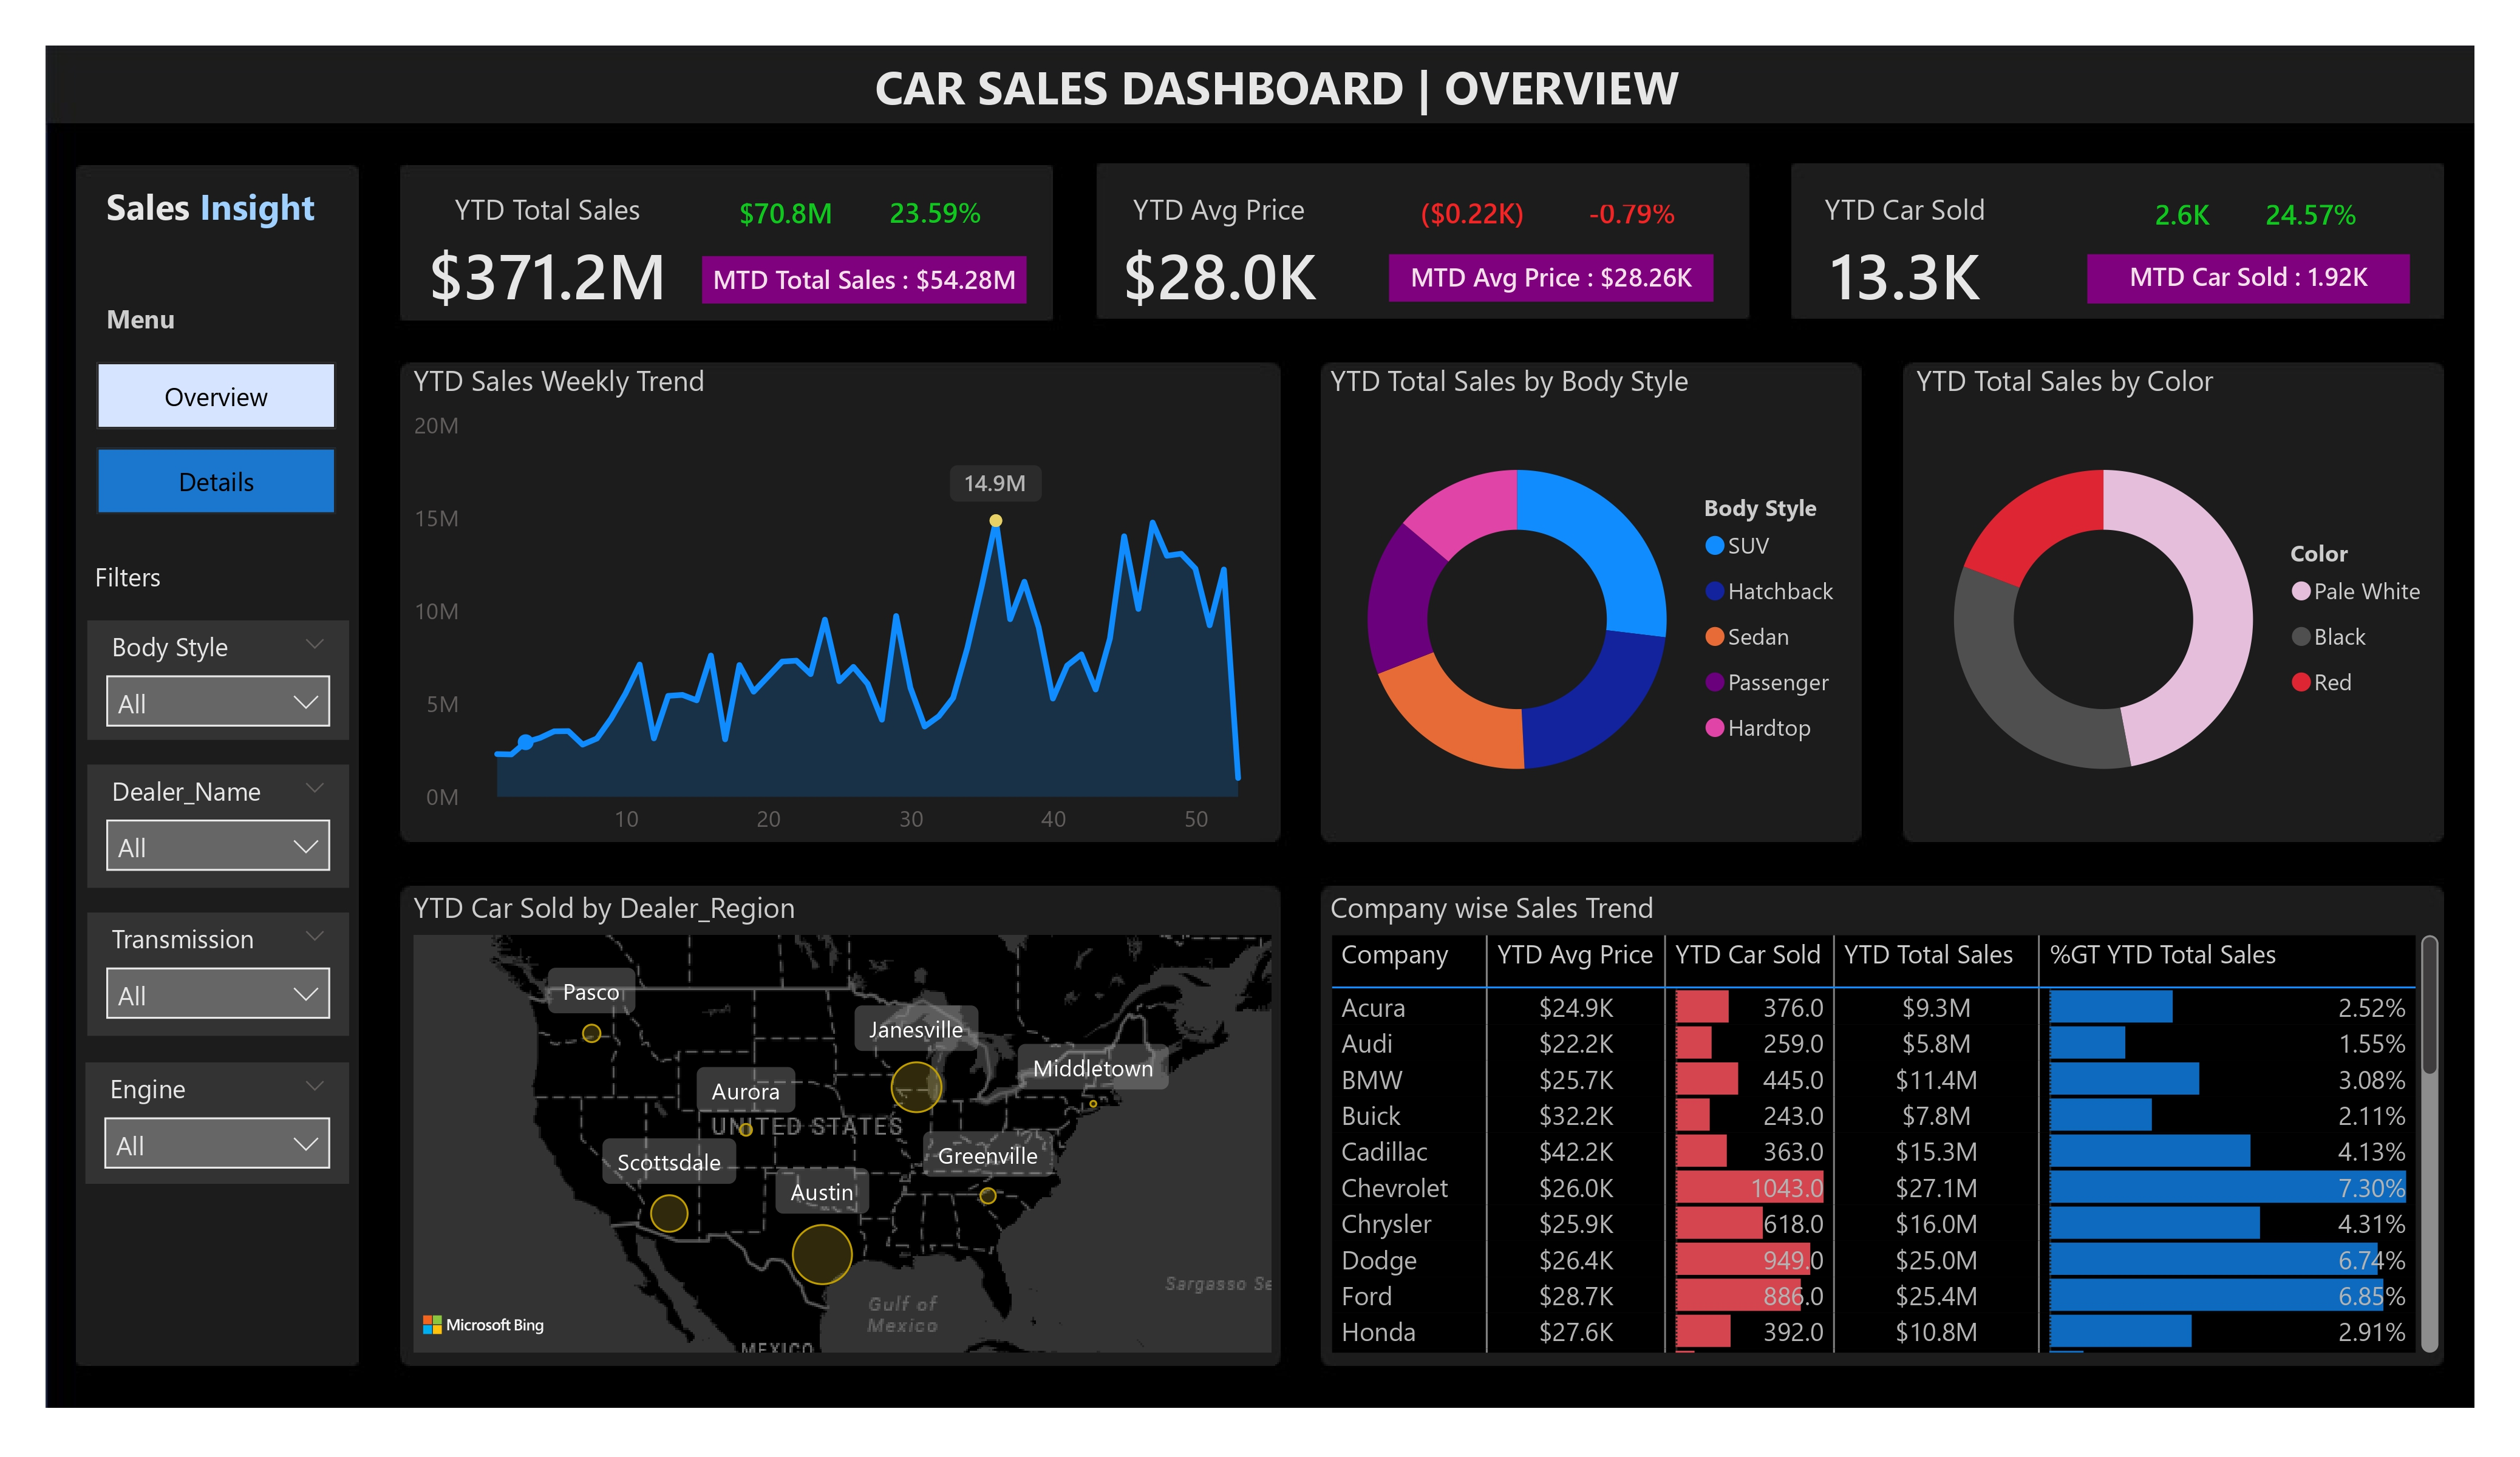

Layout of this report page (visuals, bound fields, positions):
{"tool":"powerbi","page":{"name":"Overview","canvas":[1280,720],"ordinal":0},"visuals":[{"type":"card","title":"YTD Total Sales","fields":{"Values":["car_data.YTD Total Sales"]},"box":[171.2,76.2,186.2,70],"z":0},{"type":"card","fields":{"Values":["car_data.YoY Sales Growth"]},"box":[408.7,75.3,120,24],"z":1000},{"type":"card","fields":{"Values":["car_data.Sales Difference"]},"box":[348.6,75.7,82.9,25.7],"z":2000},{"type":"card","title":"YTD Total Sales","fields":{"Values":["car_data.MTD KPI"]},"box":[345.7,111.4,171.4,24.3],"z":3000},{"type":"card","title":"YTD Avg Price","fields":{"Values":["car_data.YTD Avg Price"]},"box":[528.8,76.2,178.8,70],"z":4000},{"type":"card","fields":{"Values":["car_data.Avg Price Diff"]},"box":[711.4,75.7,81.4,25.7],"z":5000},{"type":"card","fields":{"Values":["car_data.YoY Avg Price Growth"]},"box":[776,75.3,120,22.7],"z":6000},{"type":"card","title":"YTD Total Sales","fields":{"Values":["car_data.MTD Avg Price KPI"]},"box":[708,110,171,25],"z":7000},{"type":"card","title":"YTD Car Sold","fields":{"Values":["car_data.YTD Car Sold"]},"box":[896,76,168,70],"z":8000},{"type":"card","fields":{"Values":["car_data.Car Sold Diff"]},"box":[1091.4,75.7,70,24.3],"z":9000},{"type":"card","fields":{"Values":["car_data.YoY Car Sold Growth"]},"box":[1134,76,120,24],"z":10000},{"type":"card","title":"YTD Total Sales","fields":{"Values":["car_data.MTD Car Sold KPI"]},"box":[1075.7,110,170,25.7],"z":11000},{"type":"areaChart","title":"YTD Sales Weekly Trend","fields":{"Category":["Calendar Table.Week"],"Y":["car_data.Max Point on Area Chart","Sum(car_data.Price ($))"]},"box":[188.6,165.7,462.9,260],"z":12000},{"type":"donutChart","fields":{"Category":["car_data.Body Style"],"Y":["car_data.YTD Total Sales"]},"box":[672,166,285,253],"z":13000},{"type":"donutChart","fields":{"Category":["car_data.Color"],"Y":["car_data.YTD Total Sales"]},"box":[980.6,165.6,285.1,253.4],"z":14000},{"type":"map","fields":{"Category":["car_data.Dealer_Region"],"Size":["car_data.YTD Car Sold"]},"box":[188.6,443.5,462.2,250.6],"z":15000},{"type":"tableEx","title":"Company wise Sales Trend","fields":{"Values":["car_data.Company","car_data.YTD Avg Price","car_data.YTD Car Sold","car_data.YTD Total Sales","Divide(car_data.YTD Total Sales, ScopedEval(car_data.YTD Total Sales, []))"]},"box":[672.5,443.5,593.3,250.6],"z":16000},{"type":"textbox","box":[431.7,0,451.7,53.3],"z":17000},{"type":"slicer","fields":{"Values":["car_data.Body Style"]},"box":[21.8,302.7,138.2,63.6],"z":18000},{"type":"slicer","fields":{"Values":["car_data.Dealer_Name"]},"box":[21.8,379.1,138.2,64.5],"z":19000},{"type":"slicer","fields":{"Values":["car_data.Transmission"]},"box":[21.8,457.3,138.2,64.5],"z":20000},{"type":"slicer","fields":{"Values":["car_data.Engine"]},"box":[21.4,535.7,138.6,64.3],"z":21000},{"type":"textbox","box":[21.4,265.7,108.6,27.1],"z":22000},{"type":"pageNavigator","box":[26.7,166.7,126.7,80],"z":23000},{"type":"textbox","box":[27.1,67.1,138.6,38.6],"z":24000},{"type":"textbox","box":[27.1,130,138.6,37.1],"z":25000}]}

Visuals, with their boxes in screenshot pixels (x1, y1, x2, y2):
"YTD Total Sales" card: box(370, 190, 724, 323)
card - car_data.YoY Sales Growth: box(821, 188, 1049, 234)
card - car_data.Sales Difference: box(707, 189, 864, 238)
"YTD Total Sales" card: box(701, 257, 1027, 303)
"YTD Avg Price" card: box(1049, 190, 1388, 323)
card - car_data.Avg Price Diff: box(1395, 189, 1550, 238)
card - car_data.YoY Avg Price Growth: box(1518, 188, 1746, 231)
"YTD Total Sales" card: box(1389, 254, 1714, 302)
"YTD Car Sold" card: box(1746, 189, 2065, 322)
card - car_data.Car Sold Diff: box(2117, 189, 2249, 236)
card - car_data.YoY Car Sold Growth: box(2198, 189, 2425, 236)
"YTD Total Sales" card: box(2087, 254, 2409, 303)
"YTD Sales Weekly Trend" areaChart: box(403, 360, 1282, 853)
donutChart - car_data.Body Style x car_data.YTD Total Sales: box(1321, 361, 1862, 840)
donutChart - car_data.Color x car_data.YTD Total Sales: box(1906, 359, 2447, 840)
map - car_data.Dealer_Region x car_data.YTD Car Sold: box(403, 887, 1281, 1362)
"Company wise Sales Trend" tableEx: box(1322, 887, 2448, 1362)
textbox: box(865, 46, 1722, 147)
slicer - car_data.Body Style: box(87, 620, 349, 741)
slicer - car_data.Dealer_Name: box(87, 765, 349, 887)
slicer - car_data.Transmission: box(87, 913, 349, 1036)
slicer - car_data.Engine: box(86, 1062, 349, 1184)
textbox: box(86, 549, 292, 601)
pageNavigator: box(96, 362, 336, 514)
textbox: box(97, 173, 360, 246)
textbox: box(97, 292, 360, 362)
